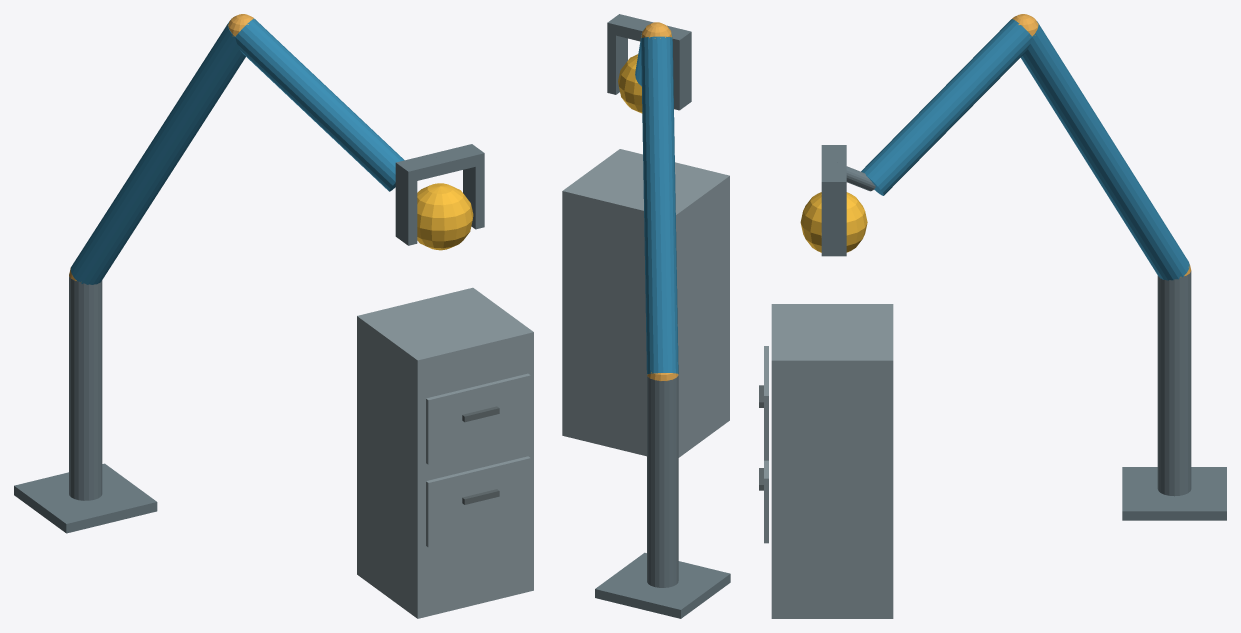
3 views of the same model, side by side, from view 1: azimuth 30°, elevation 25°; view 2: azimuth 150°, elevation 25°; view 3: azimuth 270°, elevation 25° (orthographic). The views are drawn at different scales.
Visible parts, largest first — view 1: cabinet_1 body, moving link 1, fixed post, moving link 2, cabinet_1 drawer front.001, cabinet_1 drawer front, pedestal, ball ball_1, gripper bridge, gripper finger -1, gripper finger 1; view 2: cabinet_1 body, moving link 1, fixed post, pedestal, gripper bridge, gripper finger -1, gripper finger 1, ball ball_1, joint 2; view 3: cabinet_1 body, moving link 1, fixed post, moving link 2, pedestal, ball ball_1, gripper finger 1, gripper bridge.
Boxes of the visible parts, x1=… form: cabinet_1 body: x1=357, y1=287, x2=533, y2=618; moving link 1: x1=70, y1=22, x2=245, y2=284; fixed post: x1=69, y1=274, x2=102, y2=500; moving link 2: x1=235, y1=18, x2=404, y2=191; cabinet_1 drawer front.001: x1=426, y1=373, x2=530, y2=464; cabinet_1 drawer front: x1=426, y1=456, x2=530, y2=547; pedestal: x1=14, y1=463, x2=157, y2=533; ball ball_1: x1=417, y1=183, x2=473, y2=250; gripper bridge: x1=395, y1=144, x2=484, y2=182; gripper finger -1: x1=395, y1=174, x2=417, y2=245; gripper finger 1: x1=463, y1=164, x2=484, y2=229; cabinet_1 body: x1=562, y1=149, x2=729, y2=457; moving link 1: x1=641, y1=36, x2=678, y2=374; fixed post: x1=647, y1=374, x2=678, y2=587; pedestal: x1=595, y1=552, x2=730, y2=618; gripper bridge: x1=607, y1=14, x2=691, y2=50; gripper finger -1: x1=673, y1=42, x2=691, y2=110; gripper finger 1: x1=607, y1=33, x2=627, y2=94; ball ball_1: x1=618, y1=54, x2=642, y2=113; joint 2: x1=641, y1=22, x2=672, y2=38; cabinet_1 body: x1=771, y1=304, x2=893, y2=618; moving link 1: x1=1020, y1=21, x2=1189, y2=280; fixed post: x1=1157, y1=271, x2=1191, y2=496; moving link 2: x1=861, y1=19, x2=1031, y2=195; pedestal: x1=1122, y1=467, x2=1226, y2=520; ball ball_1: x1=800, y1=192, x2=867, y2=252; gripper finger 1: x1=821, y1=193, x2=846, y2=256; gripper bridge: x1=821, y1=145, x2=846, y2=193.
Bounding box in the file's own units: 0.8043 × 1.38 × 1.12.
